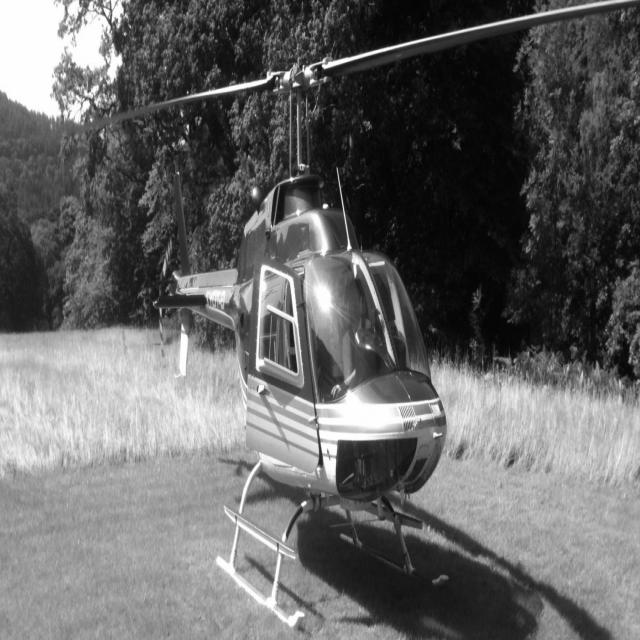helicopter: (111, 5, 611, 631)
